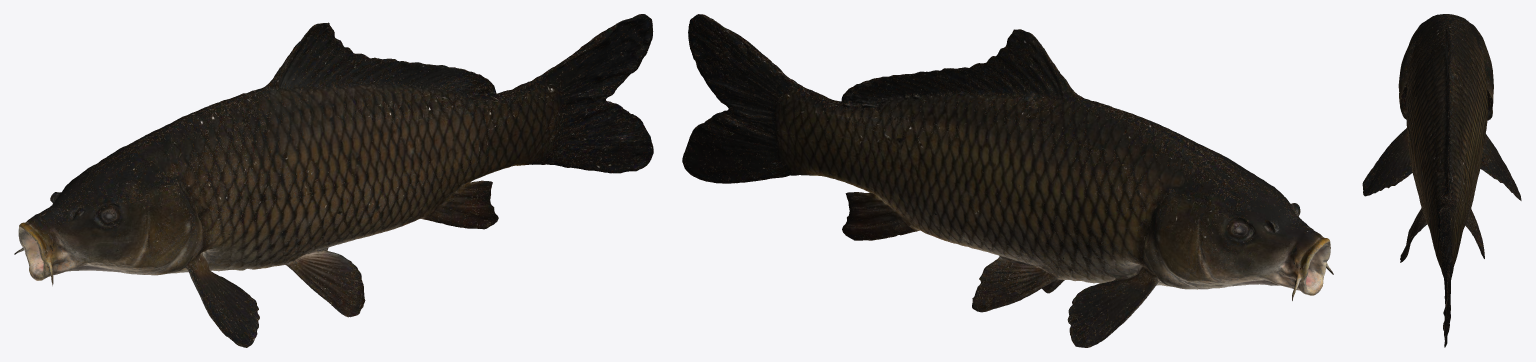
File: carp-touch.glb
3 renders of one model, left to right at view 1: azimuth 30°, elevation 25°; view 2: azimuth 150°, elevation 25°; view 3: azimuth 270°, elevation 25°, orthographic. The views are drawn at different scales.
Parts seen in each view (by area): view 1: Object_6; view 2: Object_6; view 3: Object_6.
Part boxes in pixels (x1,y1,x2,y2): Object_6: (14,14,653,347); Object_6: (682,14,1333,347); Object_6: (1362,14,1521,347).
Size of the model in its own units: 1 by 0.4187 by 0.2589.
1 material, 1 textured.
